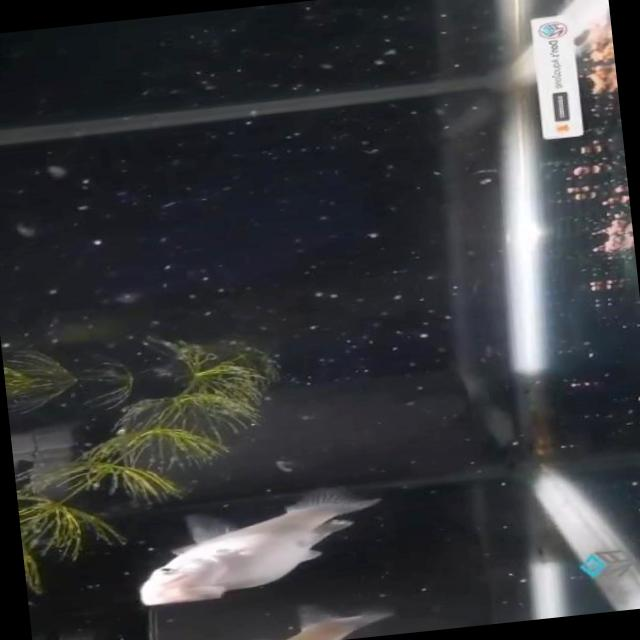PlatyFish: (110, 472, 423, 618)
